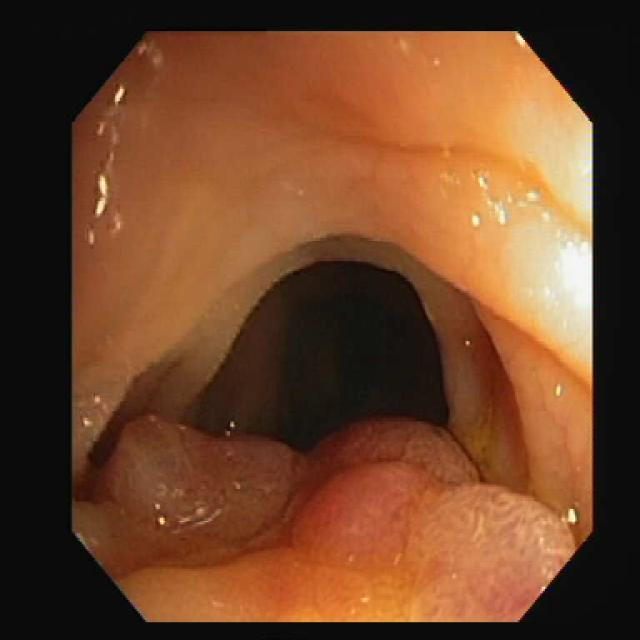tumor: (113, 416, 573, 618)
